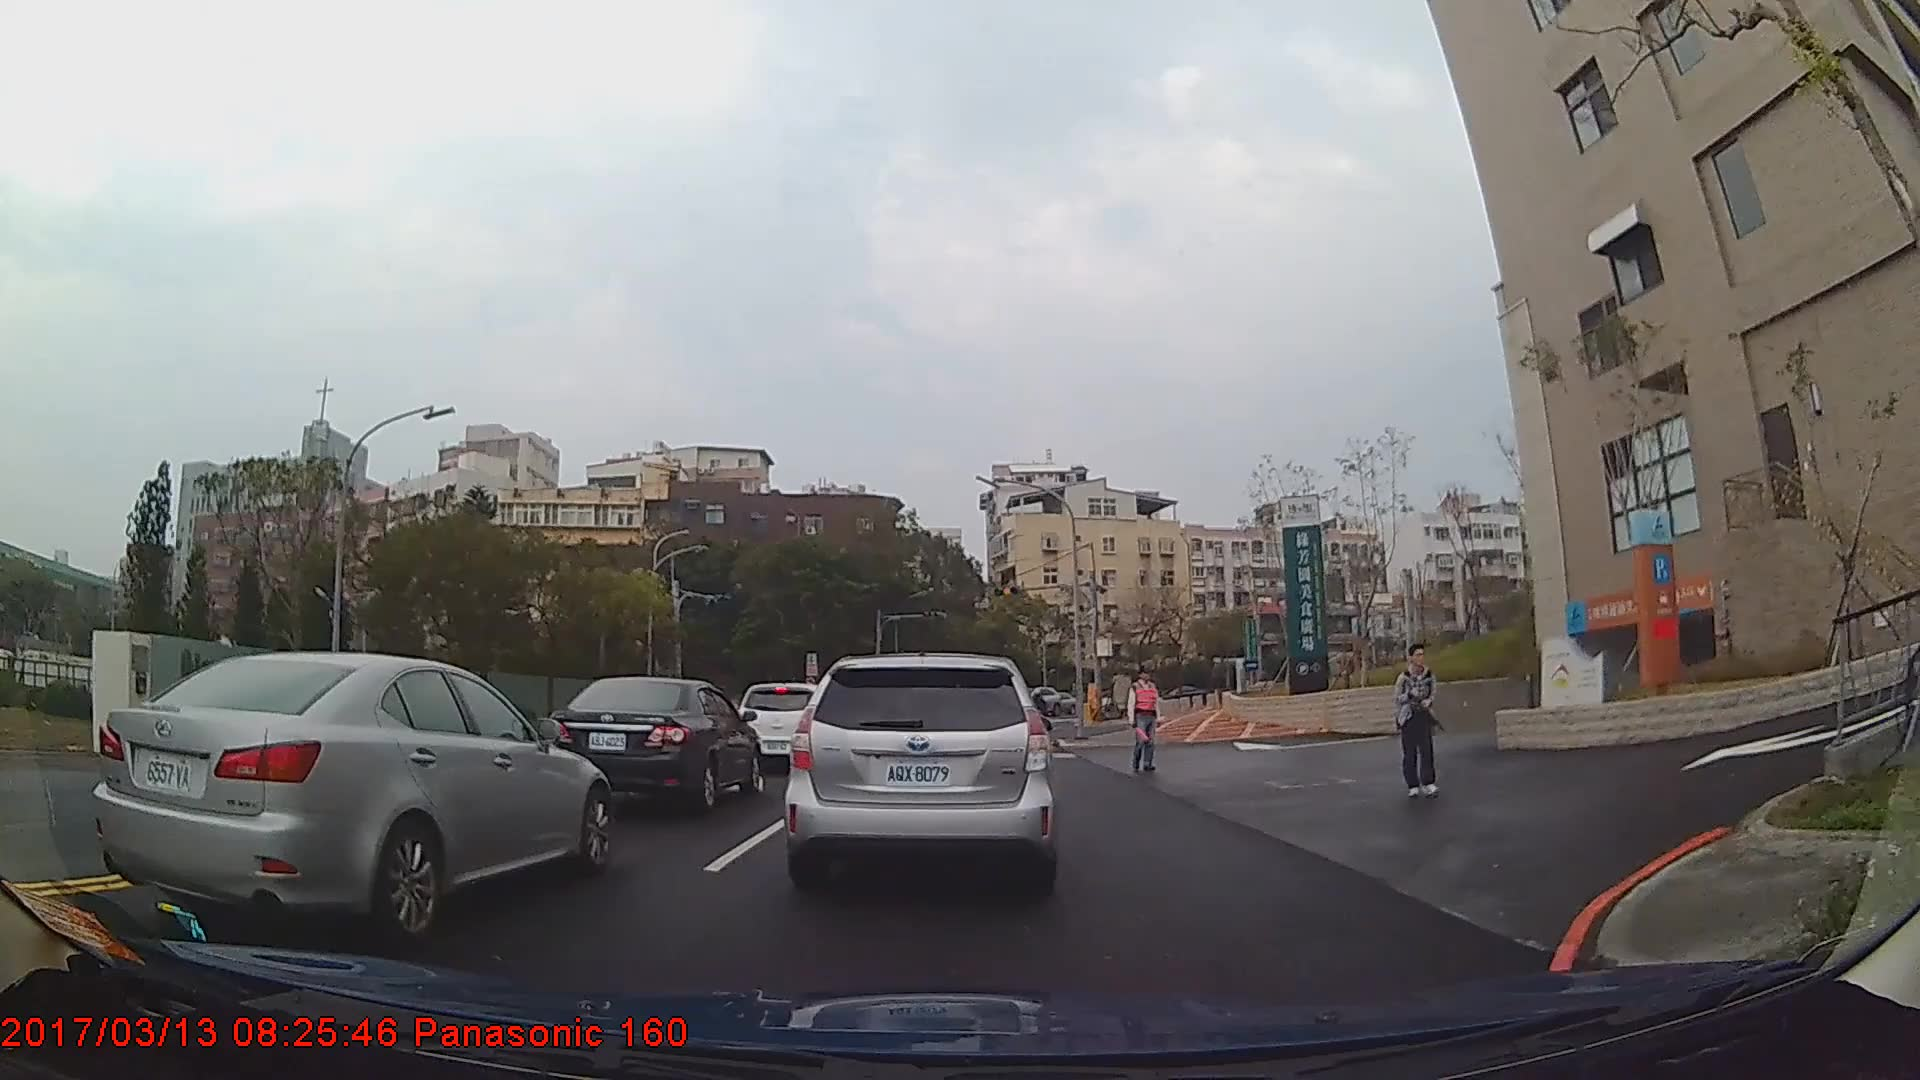pedestrian: (1392, 644, 1442, 800), (1129, 665, 1166, 773)
vehicle: (89, 648, 612, 941), (780, 652, 1058, 902), (547, 673, 761, 814), (733, 679, 831, 770)
